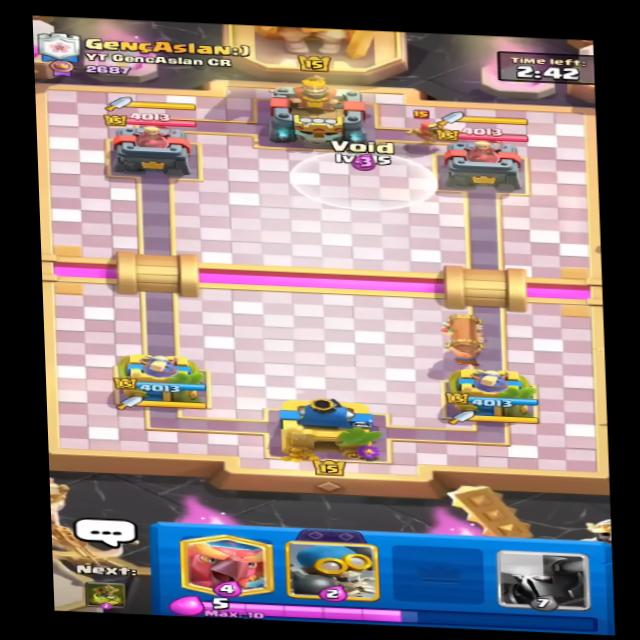wizard: (404, 109, 457, 149)
